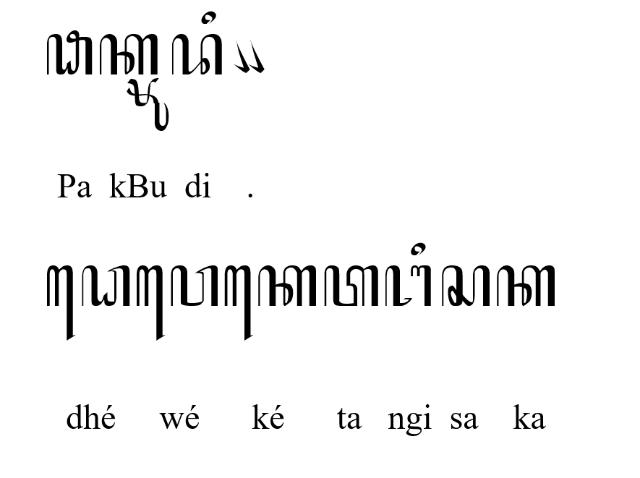Bu: (126, 77, 170, 131)
P: (46, 29, 92, 75)
d: (170, 34, 223, 76)
dh: (81, 265, 130, 307)
e1: (46, 266, 76, 340), (136, 265, 164, 343), (225, 265, 253, 341)
i: (411, 242, 427, 256), (202, 12, 216, 24)
k: (99, 32, 158, 76), (496, 265, 556, 307), (258, 264, 316, 307)
kom: (232, 39, 250, 73), (248, 39, 264, 73)
nga: (386, 265, 432, 307)
s: (441, 265, 491, 307)
t: (324, 264, 378, 306)
w: (170, 264, 218, 306)
